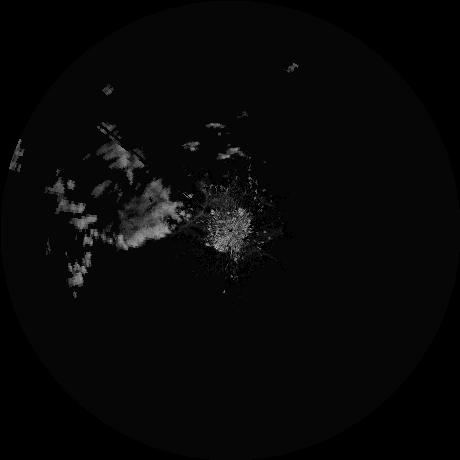frontgust: (175, 190, 209, 230)
